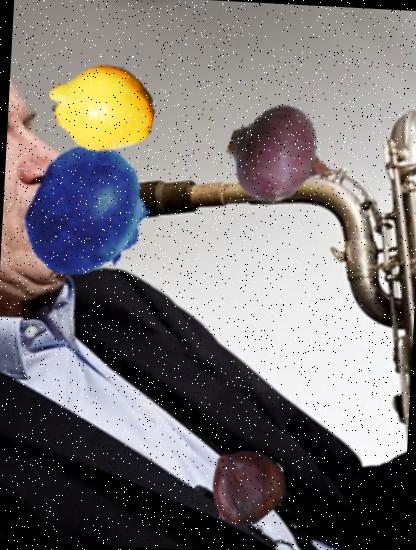Chestnut: (204, 443, 286, 525)
Huckleberry: (17, 141, 160, 283)
Onion: (226, 100, 336, 210)
Quince: (45, 52, 157, 164)
